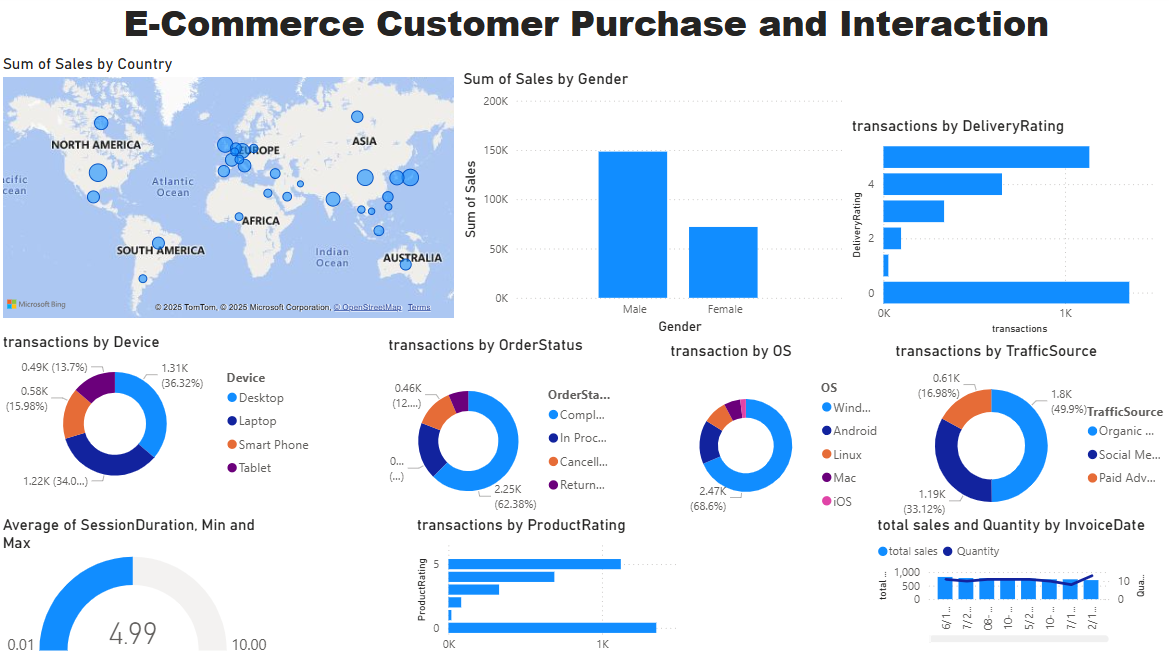

What the dashboard file says about the page in this screenshot:
{"tool":"powerbi","page":{"name":"dashboard","canvas":[1280,720],"ordinal":0},"visuals":[{"type":"textbox","box":[9.4,0,1269.9,132.3],"z":0},{"type":"map","fields":{"Category":["E-Commerce.Country"],"Size":["Sum(E-Commerce.Sales)"]},"box":[9.4,66.1,497,289.1],"z":1},{"type":"lineClusteredColumnComboChart","fields":{"Category":["E-Commerce.Gender"],"Y":["Sum(E-Commerce.Sales)"]},"box":[506.5,83.2,419.5,289.1],"z":2},{"type":"donutChart","fields":{"Category":["E-Commerce.Device"],"Y":["CountNonNull(E-Commerce.Device)"]},"box":[9.7,365.9,349.8,178.1],"z":3},{"type":"donutChart","fields":{"Category":["E-Commerce.OrderStatus"],"Y":["CountNonNull(E-Commerce.OrderStatus)"]},"box":[425.9,369.2,257.5,208.9],"z":4},{"type":"donutChart","fields":{"Category":["E-Commerce.OS"],"Y":["CountNonNull(E-Commerce.OS)"]},"box":[730.3,375.7,242.9,205.6],"z":5},{"type":"clusteredBarChart","fields":{"Y":["CountNonNull(E-Commerce.OS)"],"Category":["E-Commerce.DeliveryRating"]},"box":[926,132,353,240],"z":6},{"type":"donutChart","fields":{"Category":["E-Commerce.TrafficSource"],"Y":["CountNonNull(E-Commerce.TrafficSource)"]},"box":[973,376,306,206],"z":7},{"type":"gauge","fields":{"Y":["Avg(E-Commerce.SessionDuration)"],"MinValue":["Min(E-Commerce.SessionDuration)1"],"MaxValue":["Max(E-Commerce.SessionDuration)2"]},"box":[9.7,563.5,299.6,157.1],"z":8},{"type":"barChart","fields":{"Y":["CountNonNull(E-Commerce.OS)"],"Category":["E-Commerce.ProductRating"]},"box":[456.6,563.5,299.6,157.1],"z":9},{"type":"lineStackedColumnComboChart","fields":{"Category":["E-Commerce.InvoiceDate"],"Y":["Sum(E-Commerce.Total)"],"Y2":["Sum(E-Commerce.Quantity)"]},"box":[953.7,563.5,299.6,142.5],"z":10}]}

Visuals, with their boxes in screenshot pixels (x1, y1, x2, y2), scaled from the page's 1280x720 canvas onto the 1169x660 screenshot:
textbox: detection(9, 0, 1168, 121)
map - E-Commerce.Country x Sum(E-Commerce.Sales): detection(9, 61, 462, 326)
lineClusteredColumnComboChart - E-Commerce.Gender x Sum(E-Commerce.Sales): detection(463, 76, 846, 341)
donutChart - E-Commerce.Device x CountNonNull(E-Commerce.Device): detection(9, 335, 328, 499)
donutChart - E-Commerce.OrderStatus x CountNonNull(E-Commerce.OrderStatus): detection(389, 338, 624, 530)
donutChart - E-Commerce.OS x CountNonNull(E-Commerce.OS): detection(667, 344, 889, 533)
clusteredBarChart - CountNonNull(E-Commerce.OS) x E-Commerce.DeliveryRating: detection(846, 121, 1168, 341)
donutChart - E-Commerce.TrafficSource x CountNonNull(E-Commerce.TrafficSource): detection(889, 345, 1168, 534)
gauge - Avg(E-Commerce.SessionDuration) x Min(E-Commerce.SessionDuration)1: detection(9, 517, 282, 659)
barChart - CountNonNull(E-Commerce.OS) x E-Commerce.ProductRating: detection(417, 517, 691, 659)
lineStackedColumnComboChart - E-Commerce.InvoiceDate x Sum(E-Commerce.Total): detection(871, 517, 1145, 647)
